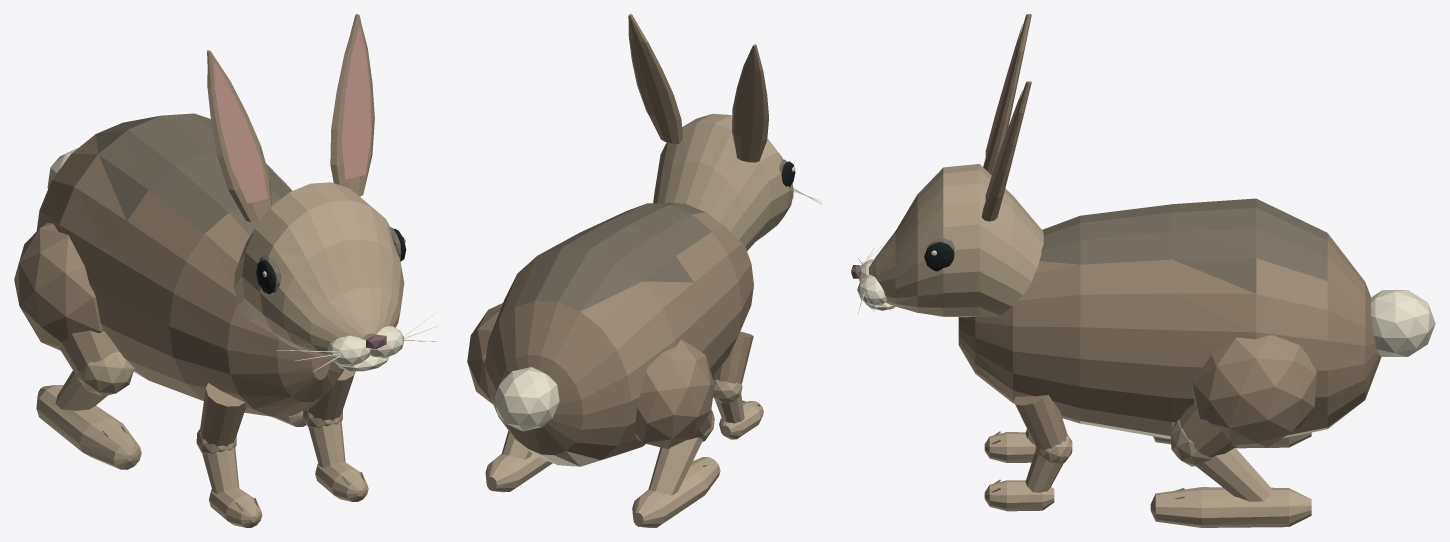
Rendered from rabbit.glb.
3 renders of one model, left to right at view 1: azimuth 30°, elevation 25°; view 2: azimuth 150°, elevation 25°; view 3: azimuth 270°, elevation 25°, orthographic. The views are drawn at different scales.
Parts seen in each view (by area): view 1: Body_mesh, Head_mesh, UpperLeg.002_mesh, EarHinge_mesh, EarHinge.001_mesh, Foot.002_mesh, LowerLeg.002_mesh, UpperLeg_mesh, Muzzle_mesh, LowerLeg_mesh, LowerLeg.001_mesh, Foot_mesh (+3 smaller); view 2: Body_mesh, Head_mesh, UpperLeg.002_mesh, EarHinge.001_mesh, EarHinge_mesh, Tail_mesh, Foot.002_mesh, LowerLeg.002_mesh, Foot.003_mesh, UpperLeg.003_mesh, UpperLeg_mesh, LowerLeg_mesh (+2 smaller); view 3: Body_mesh, Head_mesh, UpperLeg.003_mesh, Foot.003_mesh, Tail_mesh, LowerLeg.003_mesh, EarHinge_mesh, EarHinge.001_mesh, UpperLeg.001_mesh, Foot.001_mesh, LowerLeg.001_mesh, Foot_mesh (+2 smaller).
Boxes of the visible parts, x1=… form: Body_mesh: x1=36, y1=113, x2=343, y2=416; Head_mesh: x1=234, y1=182, x2=404, y2=357; UpperLeg.002_mesh: x1=14, y1=223, x2=119, y2=374; EarHinge_mesh: x1=207, y1=50, x2=271, y2=222; EarHinge.001_mesh: x1=330, y1=14, x2=374, y2=196; Foot.002_mesh: x1=36, y1=385, x2=141, y2=469; LowerLeg.002_mesh: x1=55, y1=352, x2=134, y2=410; UpperLeg_mesh: x1=200, y1=383, x2=245, y2=446; Muzzle_mesh: x1=276, y1=310, x2=438, y2=371; LowerLeg_mesh: x1=196, y1=429, x2=239, y2=493; LowerLeg.001_mesh: x1=303, y1=409, x2=345, y2=468; Foot_mesh: x1=209, y1=487, x2=262, y2=527; Body_mesh: x1=484, y1=203, x2=753, y2=466; Head_mesh: x1=653, y1=113, x2=793, y2=250; UpperLeg.002_mesh: x1=634, y1=339, x2=714, y2=448; EarHinge.001_mesh: x1=628, y1=14, x2=682, y2=143; EarHinge_mesh: x1=732, y1=44, x2=768, y2=162; Tail_mesh: x1=495, y1=367, x2=559, y2=431; Foot.002_mesh: x1=632, y1=457, x2=720, y2=527; LowerLeg.002_mesh: x1=648, y1=409, x2=714, y2=495; Foot.003_mesh: x1=485, y1=453, x2=552, y2=492; UpperLeg.003_mesh: x1=467, y1=303, x2=502, y2=404; UpperLeg_mesh: x1=712, y1=331, x2=753, y2=384; LowerLeg_mesh: x1=713, y1=379, x2=744, y2=423; Body_mesh: x1=958, y1=198, x2=1381, y2=439; Head_mesh: x1=869, y1=164, x2=1043, y2=317; UpperLeg.003_mesh: x1=1179, y1=335, x2=1316, y2=457; Foot.003_mesh: x1=1150, y1=487, x2=1311, y2=527; Tail_mesh: x1=1370, y1=290, x2=1435, y2=356; LowerLeg.003_mesh: x1=1170, y1=420, x2=1272, y2=501; EarHinge_mesh: x1=983, y1=14, x2=1031, y2=175; EarHinge.001_mesh: x1=981, y1=81, x2=1031, y2=221; UpperLeg.001_mesh: x1=1013, y1=395, x2=1067, y2=450; Foot.001_mesh: x1=984, y1=479, x2=1054, y2=511; LowerLeg.001_mesh: x1=1025, y1=435, x2=1072, y2=492; Foot_mesh: x1=984, y1=431, x2=1035, y2=462.
Size of the model in its own units: 0.3457 by 0.575 by 0.697.
